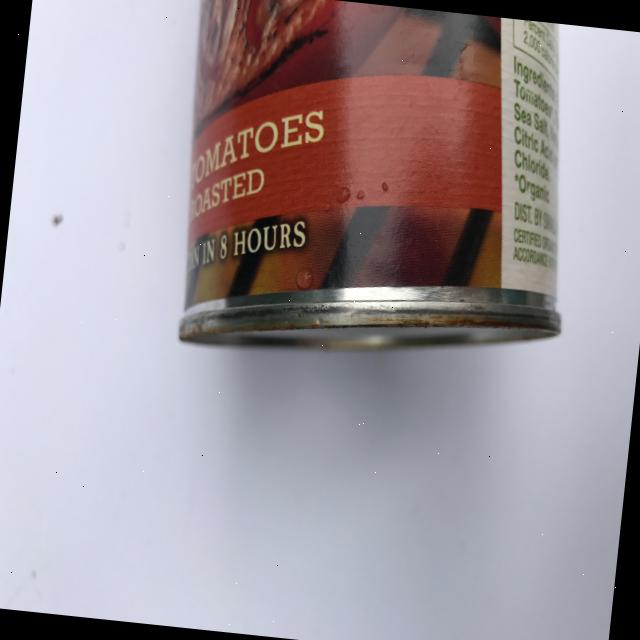metal: (162, 0, 592, 379)
